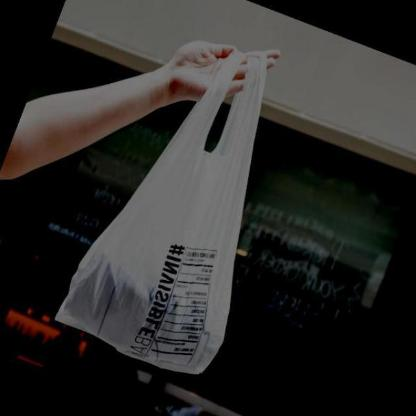Plastic Bag: (54, 48, 270, 374)
